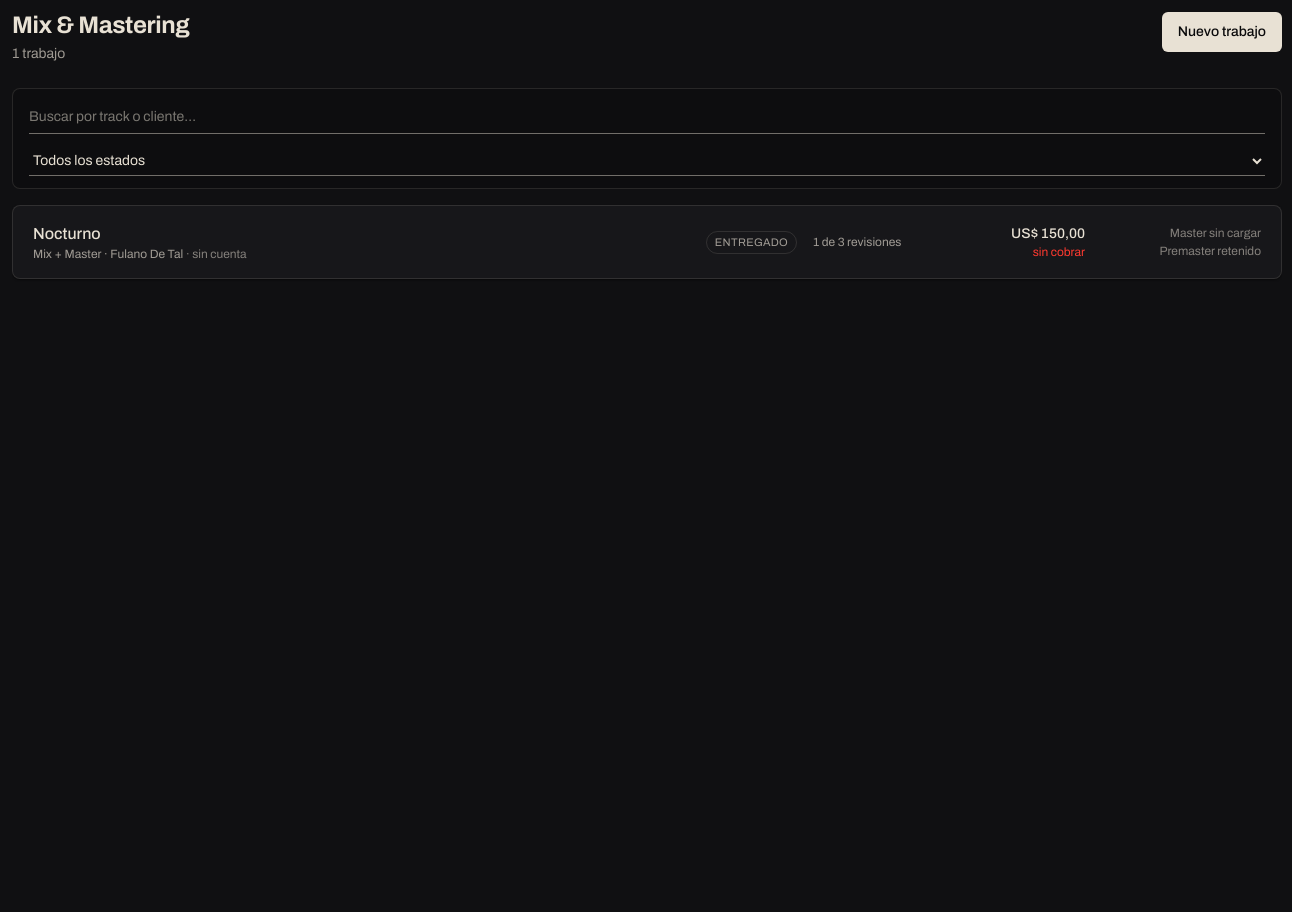
liberar el premaster › sin pago muestra el rechazo del backend y recién ahí ofrece la excepción
The image size is (1292, 912).
Click the text "Nocturno".
click(67, 234)  # box [33,225,101,242]
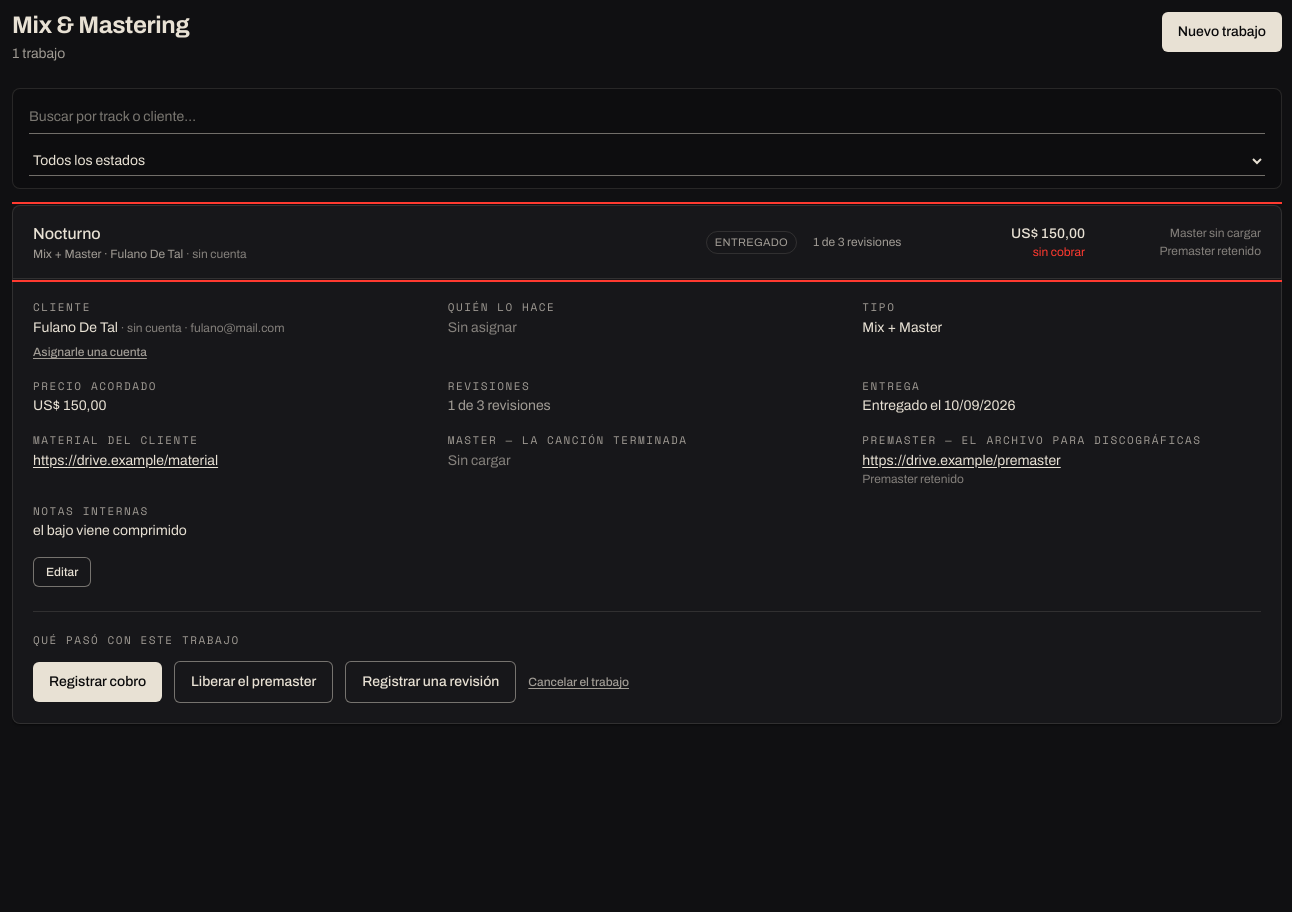
Expected: the button "Liberarlo igual" is not shown
Click the button "Liberar el premaster".
click(254, 682)  # box [174,661,333,703]
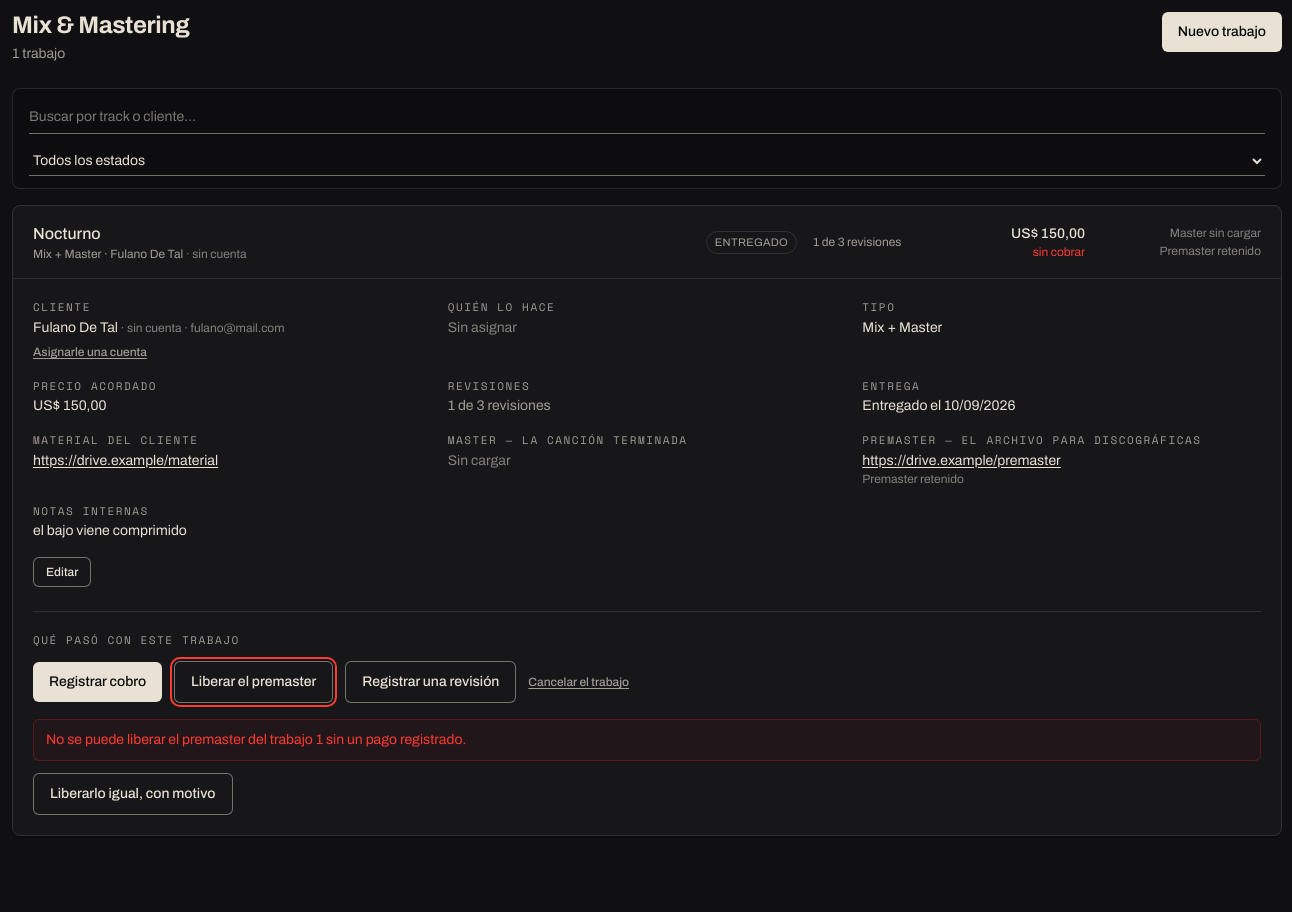
Result: the text "No se puede liberar el premaster del trabajo 1 sin un pago registrado." is shown at [33,719,1261,761]
Result: the button "Liberarlo igual, con motivo" is shown at [33,773,232,815]
